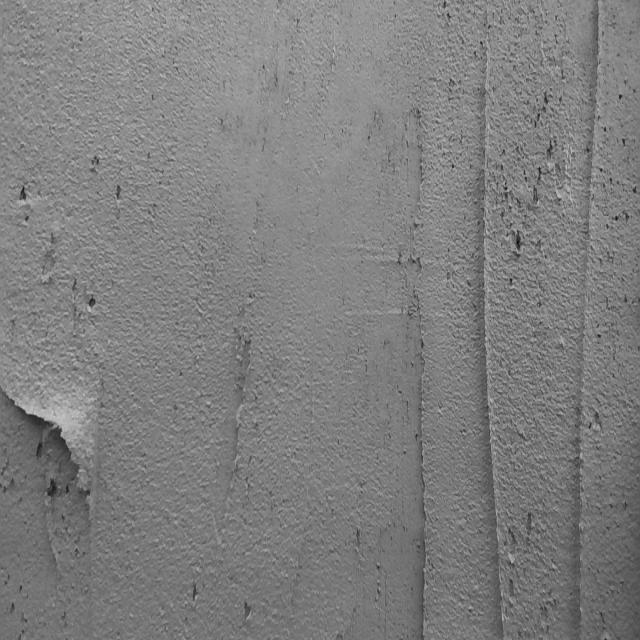trowels marks: (576, 8, 604, 640), (481, 31, 502, 630), (412, 301, 430, 640)
